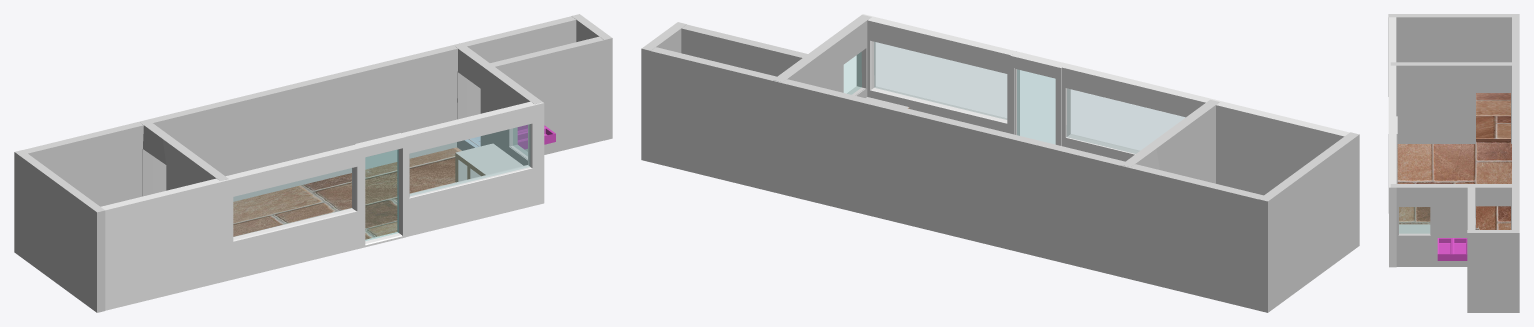
The model's file is departamento1.glb.
3 renders of one model, left to right at view 1: azimuth 30°, elevation 25°; view 2: azimuth 150°, elevation 25°; view 3: azimuth 270°, elevation 25°, orthographic. The views are drawn at different scales.
Visible parts, largest first — view 1: Cube.001, Cube, Cube.010, Cube.009, Cube.008, Cube.006, Cube.011, Cube.002, Cube.005, Cube.003, Cube.014, Cube.007 (+1 smaller); view 2: Cube.001, Cube, Cube.005, Cube.009, Cube.010, Cube.011, Cube.002, Cube.003, Cube.006, Cube.007; view 3: Cube.003, Cube.002, Cube.009, Cube.008, Cube.007, Cube.012, Cube.001, Cube.010, Cube, Cube.013, Cube.006, Cube.011 (+2 smaller).
Boxes of the visible parts, x1=… form: Cube.001: x1=23, y1=43, x2=459, y2=206; Cube: x1=100, y1=144, x2=360, y2=310; Cube.010: x1=401, y1=101, x2=544, y2=236; Cube.009: x1=14, y1=150, x2=105, y2=312; Cube.008: x1=233, y1=147, x2=461, y2=239; Cube.006: x1=490, y1=36, x2=604, y2=154; Cube.011: x1=354, y1=133, x2=405, y2=248; Cube.002: x1=454, y1=43, x2=542, y2=165; Cube.005: x1=459, y1=16, x2=576, y2=116; Cube.003: x1=140, y1=120, x2=228, y2=196; Cube.014: x1=455, y1=143, x2=523, y2=182; Cube.007: x1=571, y1=14, x2=612, y2=140; Cube.001: x1=774, y1=79, x2=1263, y2=310; Cube: x1=1062, y1=63, x2=1349, y2=195; Cube.005: x1=650, y1=47, x2=776, y2=192; Cube.009: x1=1258, y1=132, x2=1359, y2=312; Cube.010: x1=862, y1=14, x2=1015, y2=133; Cube.011: x1=1010, y1=51, x2=1066, y2=145; Cube.002: x1=773, y1=15, x2=871, y2=97; Cube.003: x1=1121, y1=99, x2=1219, y2=183; Cube.006: x1=681, y1=24, x2=807, y2=76; Cube.007: x1=641, y1=22, x2=686, y2=162; Cube.003: x1=1390, y1=62, x2=1518, y2=143; Cube.002: x1=1390, y1=184, x2=1518, y2=266; Cube.009: x1=1388, y1=14, x2=1519, y2=96; Cube.008: x1=1397, y1=141, x2=1511, y2=229; Cube.007: x1=1467, y1=230, x2=1519, y2=312; Cube.012: x1=1476, y1=93, x2=1510, y2=141; Cube.001: x1=1512, y1=17, x2=1519, y2=186; Cube.010: x1=1389, y1=134, x2=1396, y2=267; Cube: x1=1388, y1=17, x2=1396, y2=116; Cube.013: x1=1437, y1=238, x2=1467, y2=260; Cube.006: x1=1467, y1=187, x2=1475, y2=229; Cube.011: x1=1388, y1=116, x2=1397, y2=213.
Size of the model in its own units: 17.83 by 3.03 by 4.52.
Materials: 22 (5 with a texture image).
